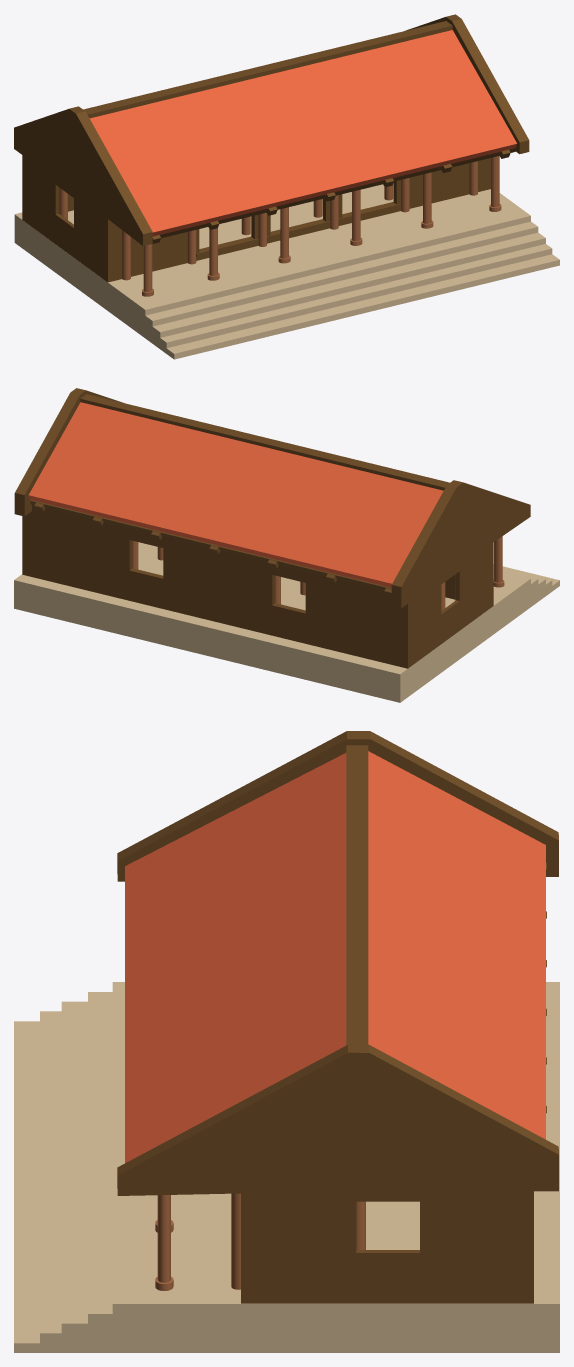
File: House5_v2.fbx
3 renders of one model, top to bottom at view 1: azimuth 30°, elevation 25°; view 2: azimuth 150°, elevation 25°; view 3: azimuth 270°, elevation 25°, orthographic. The views are drawn at different scales.
Visible parts, largest first — view 1: Roof5, Steps.001, FrontHouse5, SideHouse5, FrontPillars, Pillars15, Roofsupport, Pillars25; view 2: Roof5, Back5, Steps.001, SideHouse5, Roofsupport, FrontPillars; view 3: Roof5, Steps.001, Cube.066, FrontPillars, Pillars15.
Boxes of the visible parts, box(x1,y1,x2,y2) form: Roof5: box(14, 14, 529, 245); Steps.001: box(14, 183, 559, 359); FrontHouse5: box(111, 158, 489, 281); SideHouse5: box(22, 155, 111, 282); FrontPillars: box(142, 156, 501, 296); Pillars15: box(122, 161, 477, 280); Roofsupport: box(152, 148, 515, 243); Pillars25: box(241, 184, 393, 235); Roof5: box(14, 388, 530, 608); Back5: box(22, 505, 407, 668); Steps.001: box(14, 542, 559, 702); SideHouse5: box(407, 542, 493, 668); Roofsupport: box(30, 499, 391, 596); FrontPillars: box(493, 536, 504, 587); Roof5: box(117, 731, 558, 1195); Steps.001: box(14, 982, 559, 1352); Cube.066: box(241, 1191, 533, 1303); FrontPillars: box(155, 1195, 173, 1290); Pillars15: box(231, 1193, 240, 1289).
Size of the model in its own units: 1014 by 1418 by 614.
